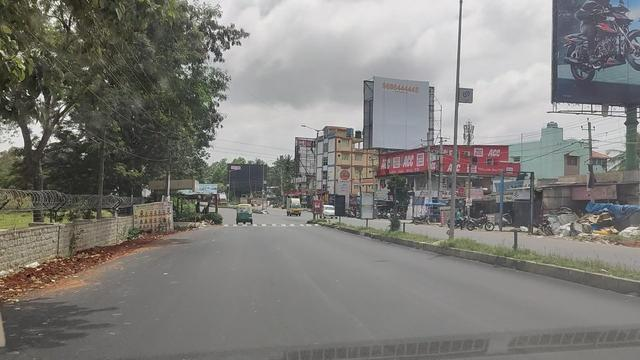LMV: (237, 204, 251, 220)
SpeedBump: (226, 222, 310, 229)
